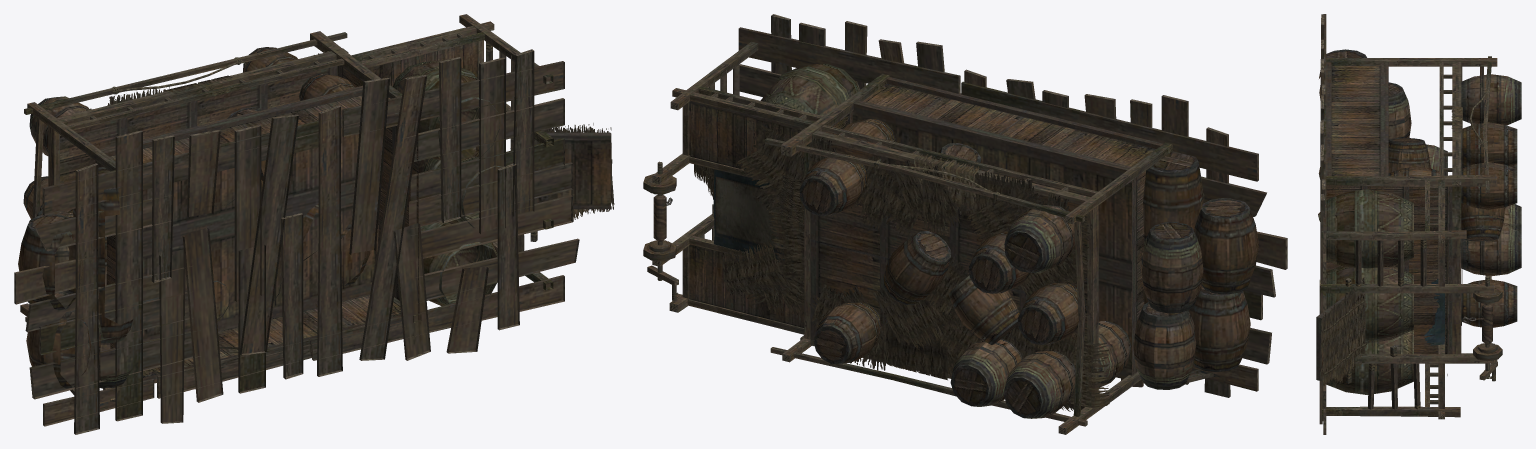
The model's file is mutong.FBX.
The picture shows the model from 3 angles, left to right: view 1: azimuth 30°, elevation 25°; view 2: azimuth 150°, elevation 25°; view 3: azimuth 270°, elevation 25°; orthographic projection. The views are drawn at different scales.
Parts seen in each view (by area): view 1: Mesh_0234; view 2: Mesh_0234; view 3: Mesh_0234.
Boxes of the visible parts, box(x1,y1,x2,y2) form: Mesh_0234: box(14, 14, 614, 434); Mesh_0234: box(643, 14, 1287, 434); Mesh_0234: box(1316, 14, 1521, 434).
Size of the model in its own units: 13.59 by 6.55 by 4.74.
Materials: 1 (1 with a texture image).
